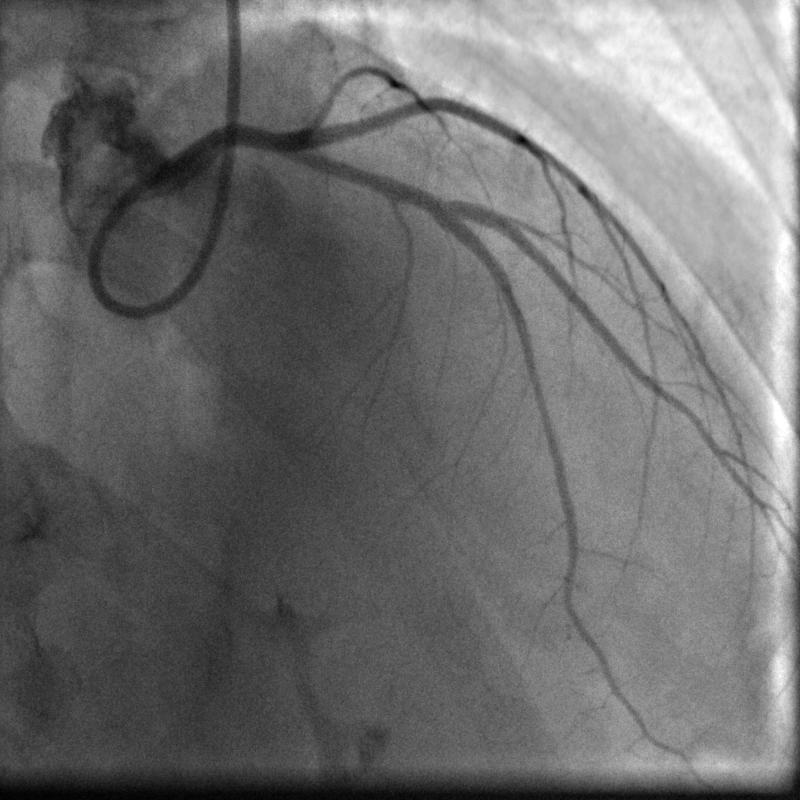Stenosis: (419, 184, 448, 224)
